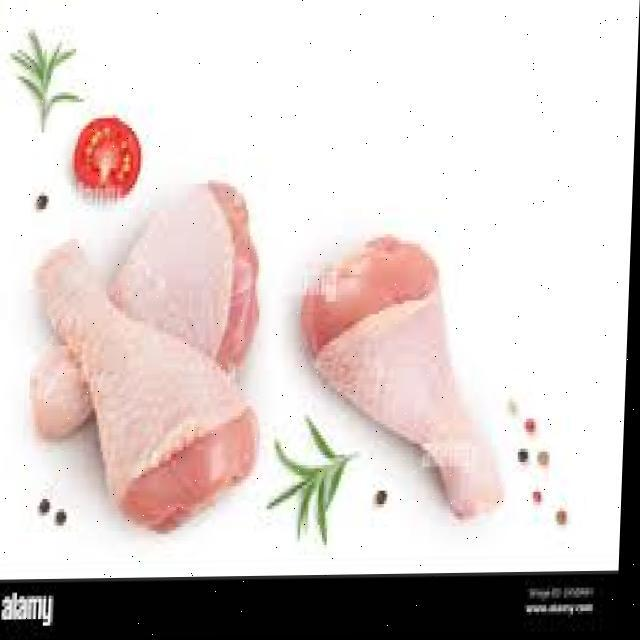leg: (283, 223, 515, 520), (28, 239, 264, 521), (20, 181, 268, 403)
